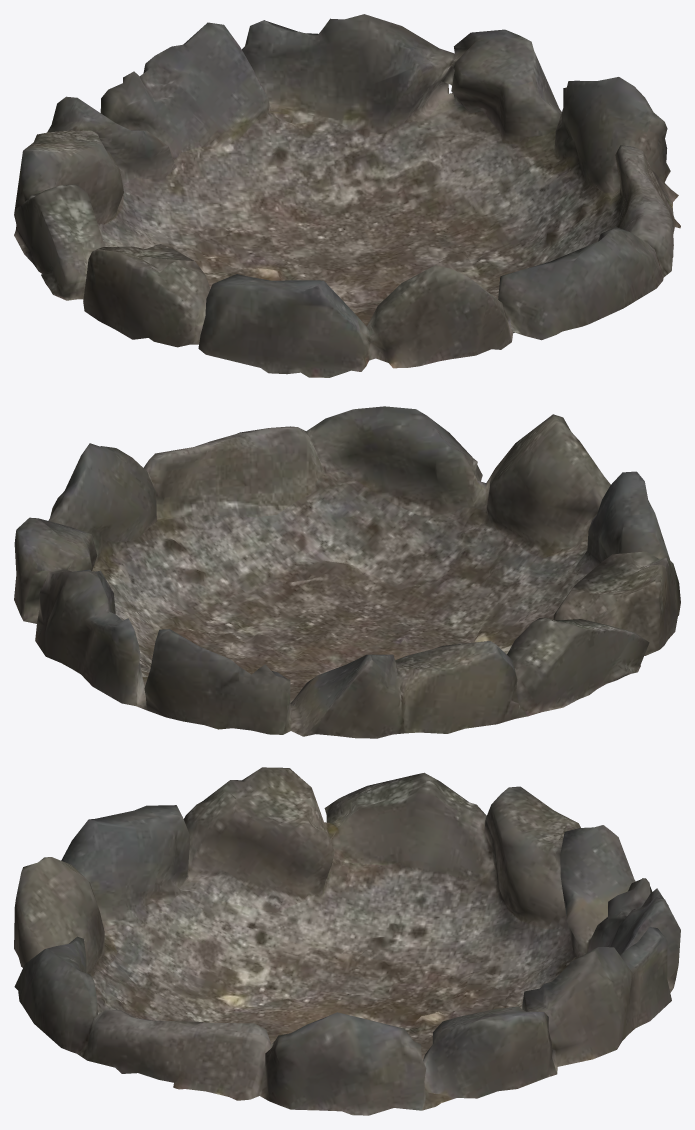
File: pr_fire_pit.glb
3 views of the same model, one above another, from view 1: azimuth 30°, elevation 25°; view 2: azimuth 150°, elevation 25°; view 3: azimuth 270°, elevation 25° (orthographic).
Parts seen in each view (by area): view 1: stone_fire_pit; view 2: stone_fire_pit; view 3: stone_fire_pit.
Part boxes in pixels (x1=…): stone_fire_pit: x1=14, y1=14, x2=680, y2=377; stone_fire_pit: x1=14, y1=406, x2=680, y2=738; stone_fire_pit: x1=14, y1=767, x2=680, y2=1115.
Size of the model in its own units: 1 by 0.2681 by 0.9895.
Materials: 1 (1 with a texture image).
